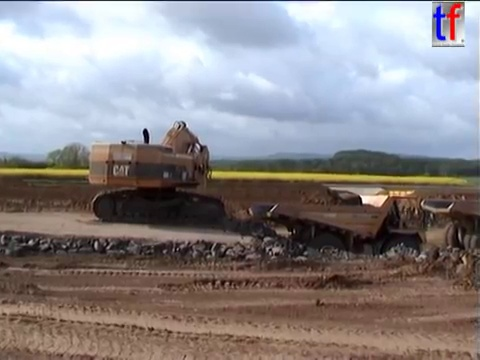excavator: (86, 118, 228, 227)
truck: (246, 187, 429, 275), (417, 196, 480, 261)
